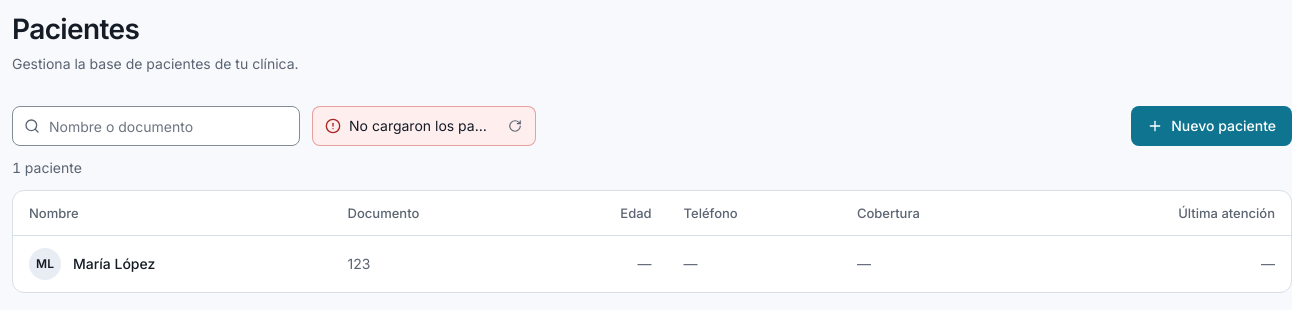
Test: PatientsView › filtro por pagador (DX-153) › si fallan los pagadores, avisa junto al filtro con reintento y la tabla sigue
Expected: the text "1 paciente" is shown, 12,159 -> 82,176
Expected: the text "María López" is shown, 73,254 -> 155,274
Click the button named "reintentar".
click(515, 126)  # box 503,114 -> 527,138
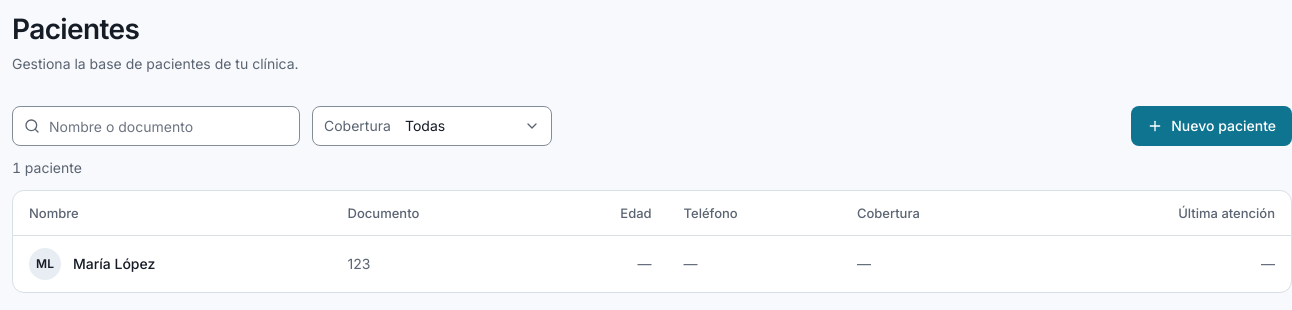
Expected: the dropdown labelled "Cobertura" is shown, 312,106 -> 552,146
